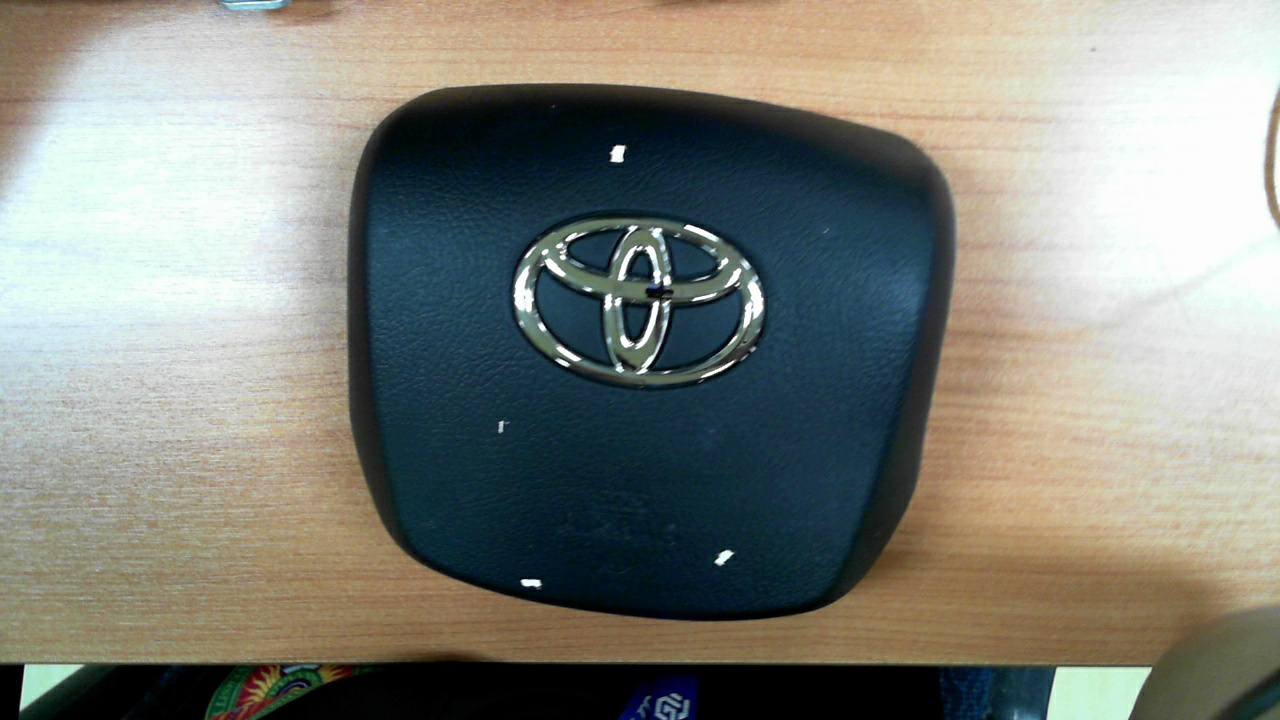Airbag: (347, 86, 955, 622)
Mark: (714, 549, 735, 566), (608, 144, 626, 163), (520, 579, 543, 588), (498, 420, 511, 434), (823, 228, 829, 233)
